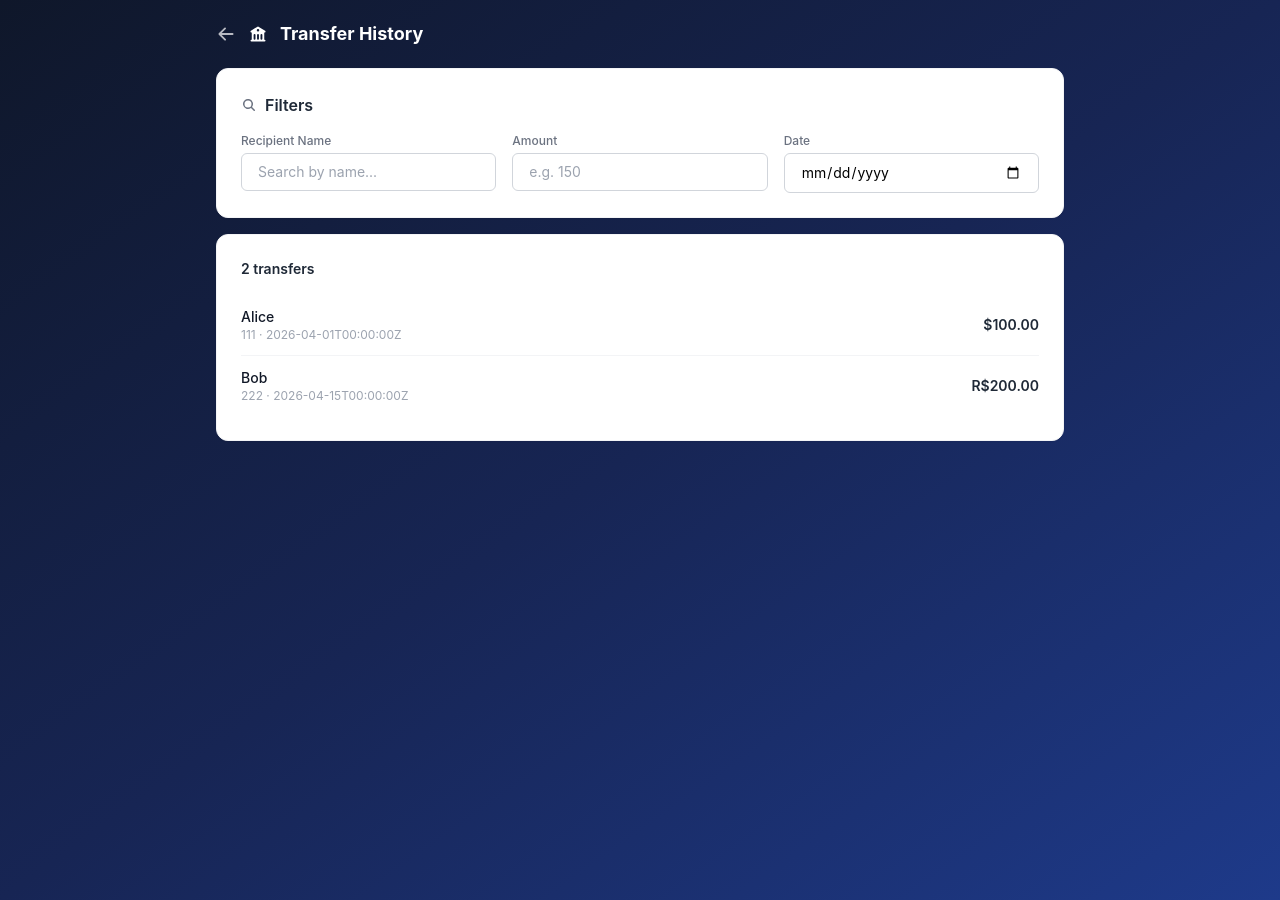
Test: HistoryTransferPage › filters by amount
Expected: the text "Alice" is shown, [241,308,274,325]
Type "200" into the number field with placeholder "e.g. 150".
click(640, 172); type("200")  # box [512,153,768,191]
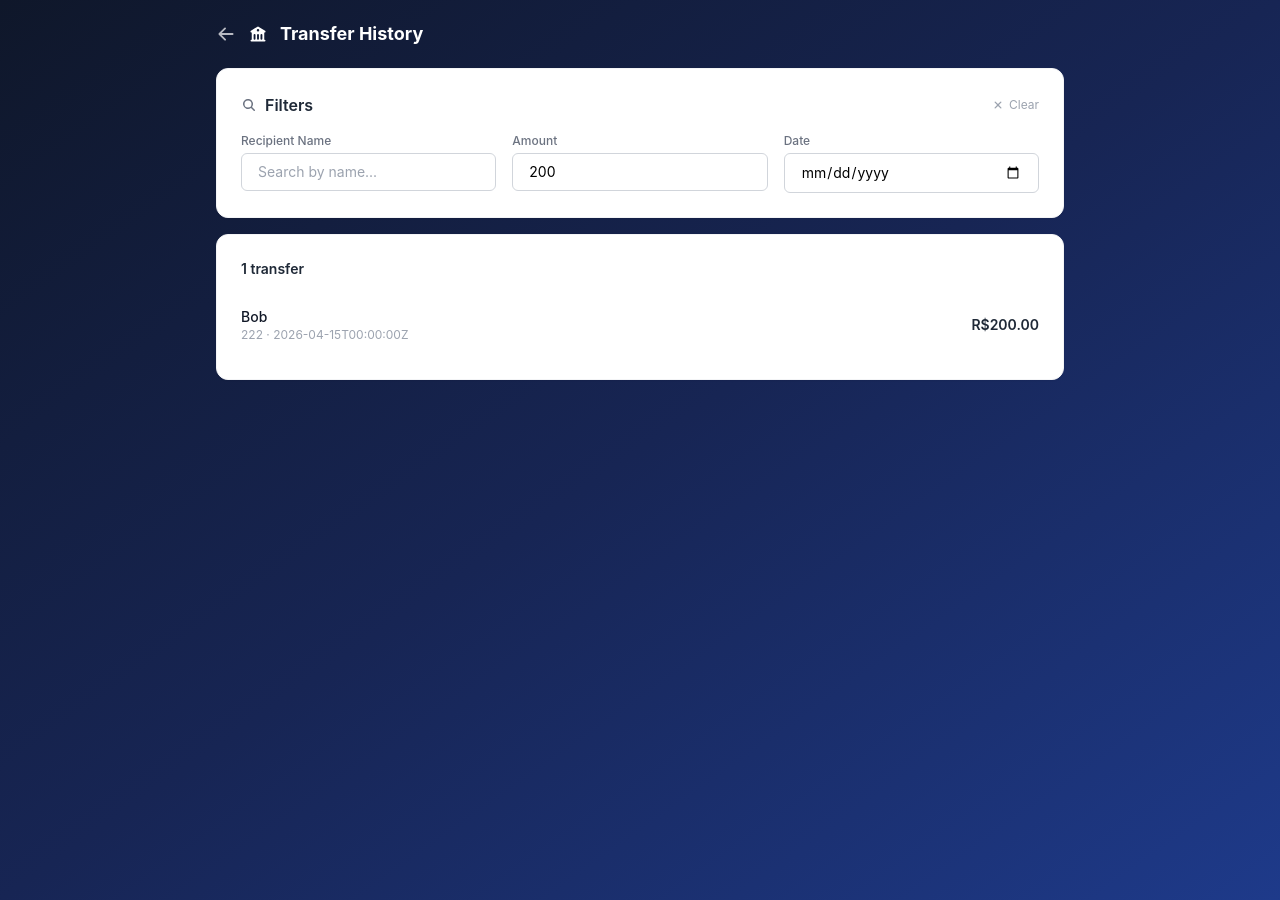
Expected: the text "Alice" is gone
Expected: the text "Bob" is shown, [241,308,267,325]
